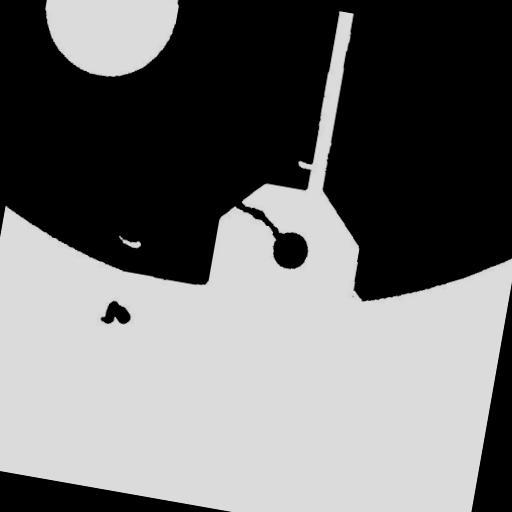copper: (90, 290, 140, 336)
mousebite: (337, 278, 372, 312), (288, 151, 322, 178)
pin-hole: (108, 226, 150, 256)
short: (216, 188, 298, 250)
